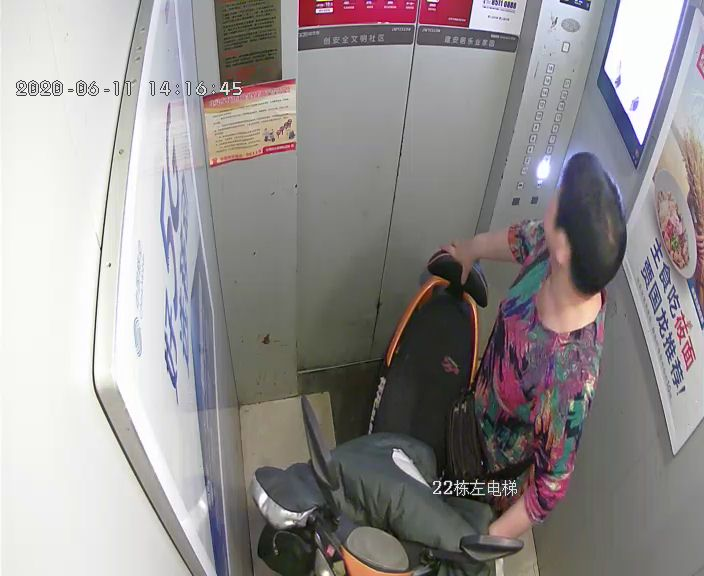Electric-bicycle: (298, 225, 524, 572)
